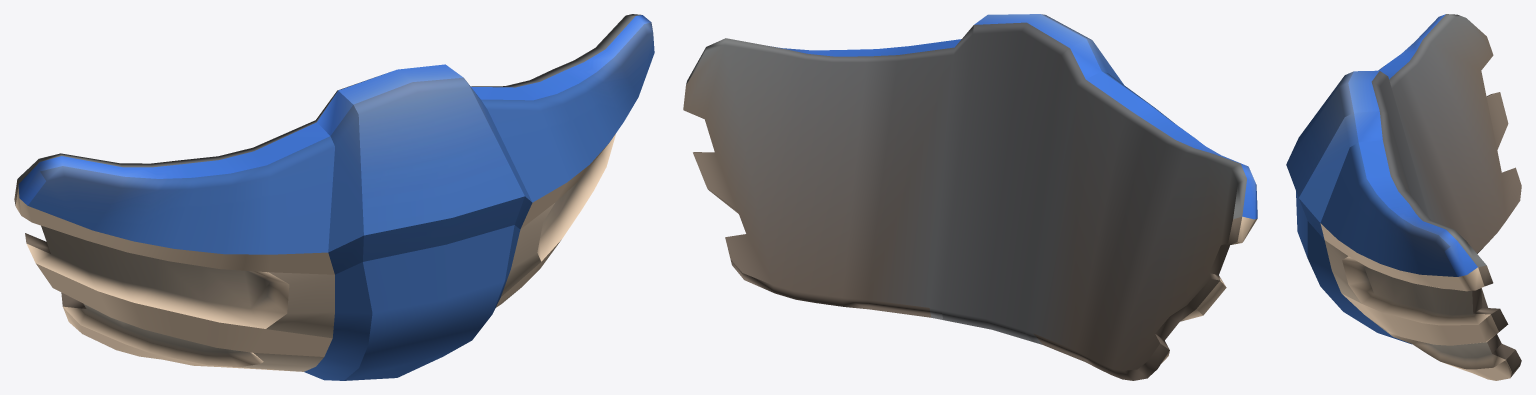
File: Mask_Wrestler_Blue.gltf
3 renders of one model, left to right at view 1: azimuth 30°, elevation 25°; view 2: azimuth 150°, elevation 25°; view 3: azimuth 270°, elevation 25°, orthographic. The views are drawn at different scales.
Visible parts, largest first — view 1: Mask_Wrestler_Blue; view 2: Mask_Wrestler_Blue; view 3: Mask_Wrestler_Blue.
Part boxes in pixels (box(x1,y1,x2,y2)): Mask_Wrestler_Blue: box(14, 14, 654, 380); Mask_Wrestler_Blue: box(683, 14, 1257, 380); Mask_Wrestler_Blue: box(1286, 14, 1521, 380).
Size of the model in its own units: 0.8341 by 0.4082 by 0.3502.
2 materials, 2 textured.
